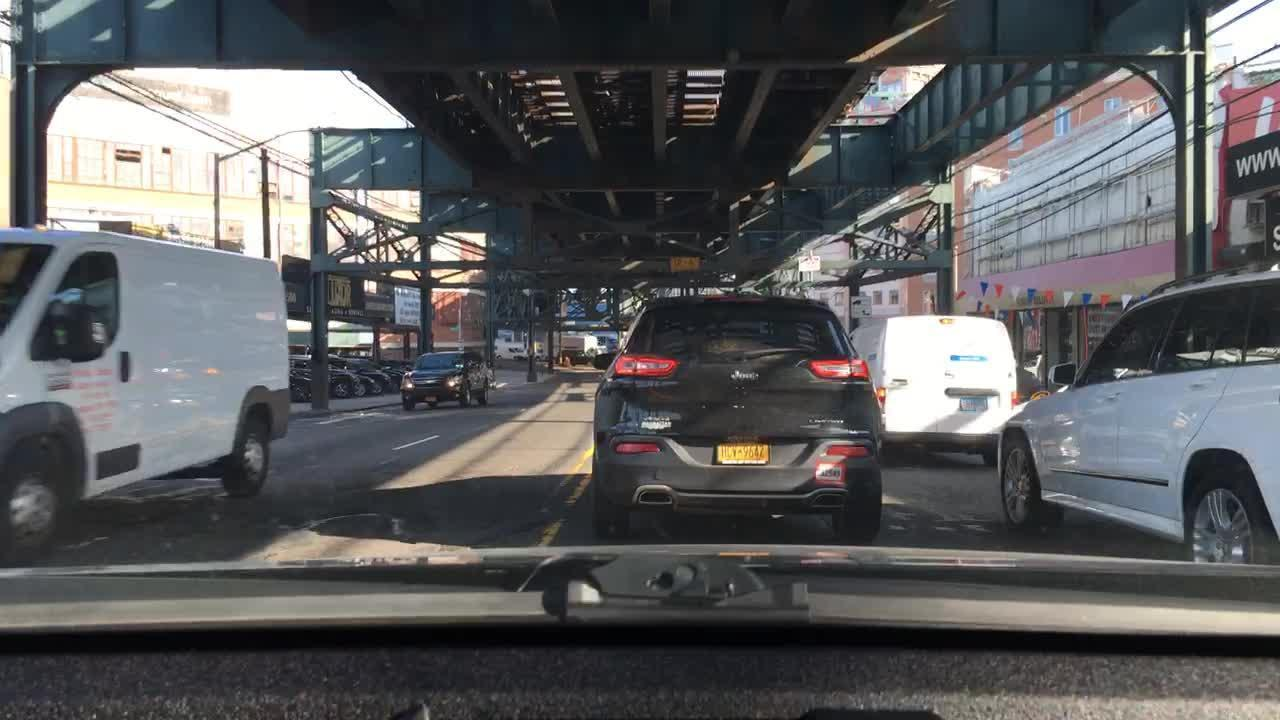jeep: (728, 369, 761, 386)
